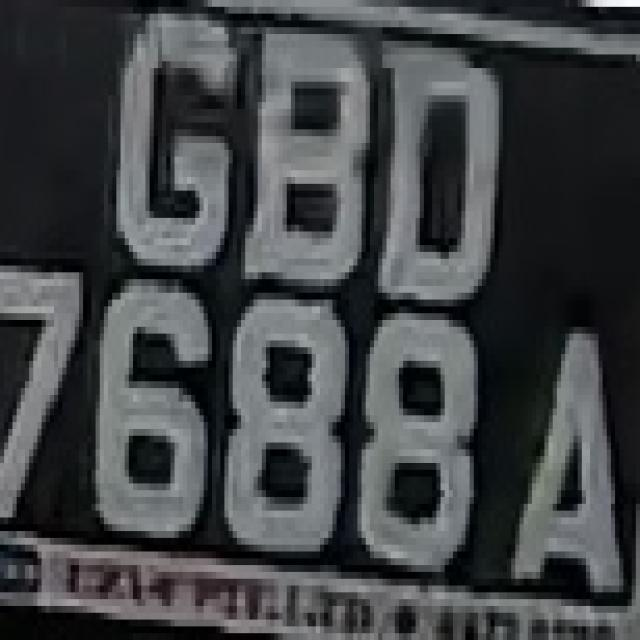6: (87, 259, 208, 565)
7: (1, 256, 80, 520)
8: (220, 258, 349, 578), (357, 279, 478, 586)
A: (498, 306, 640, 592)
B: (237, 7, 370, 327)
D: (366, 48, 507, 326)
G: (100, 0, 241, 279)
